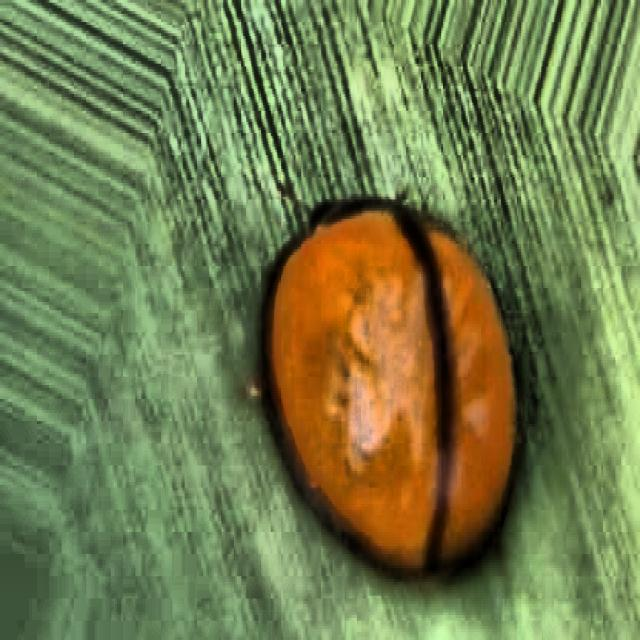Ladybug: (168, 96, 580, 640)
